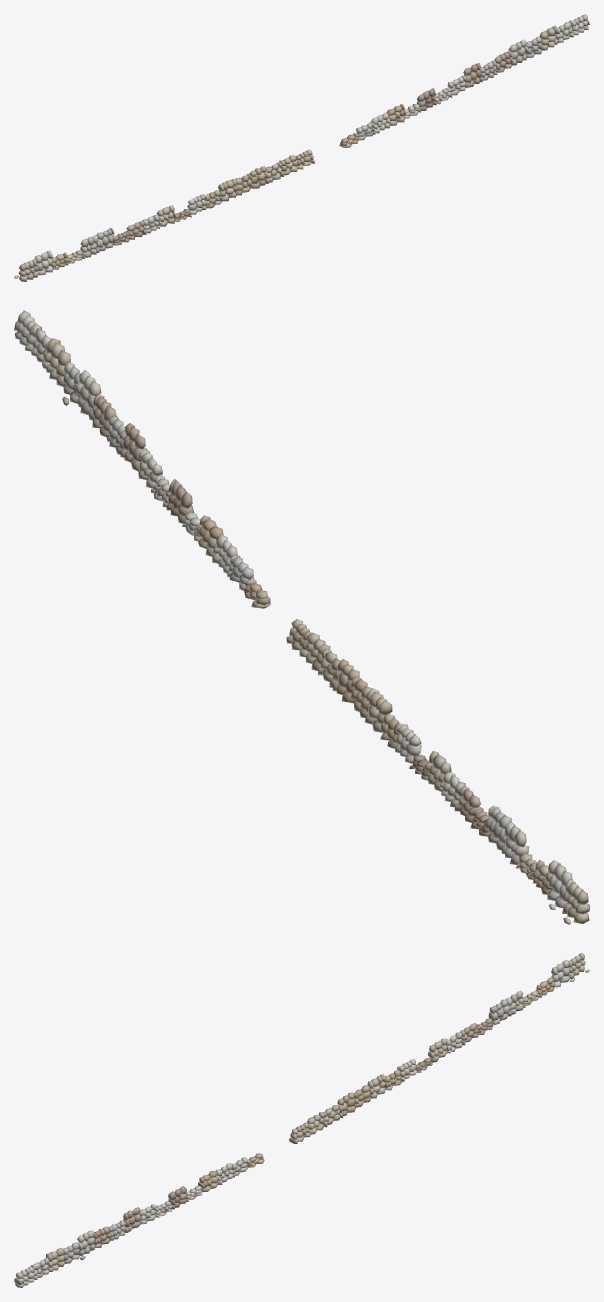
File: farm_-33_-26_near.glb
The picture shows the model from 3 angles, top to bottom: view 1: azimuth 90°, elevation 25°; view 2: azimuth 150°, elevation 25°; view 3: azimuth 270°, elevation 25°; orthographic projection. The views are drawn at different scales.
Parts seen in each view (by area): view 1: geometry_0; view 2: geometry_0; view 3: geometry_0.
Boxes of the visible parts, x1,y1,x2,y2 form: geometry_0: [14, 14, 589, 281]; geometry_0: [14, 310, 589, 924]; geometry_0: [14, 953, 589, 1287].
Bounding box in the file's own units: 45.62 × 3.74 × 38.55.
